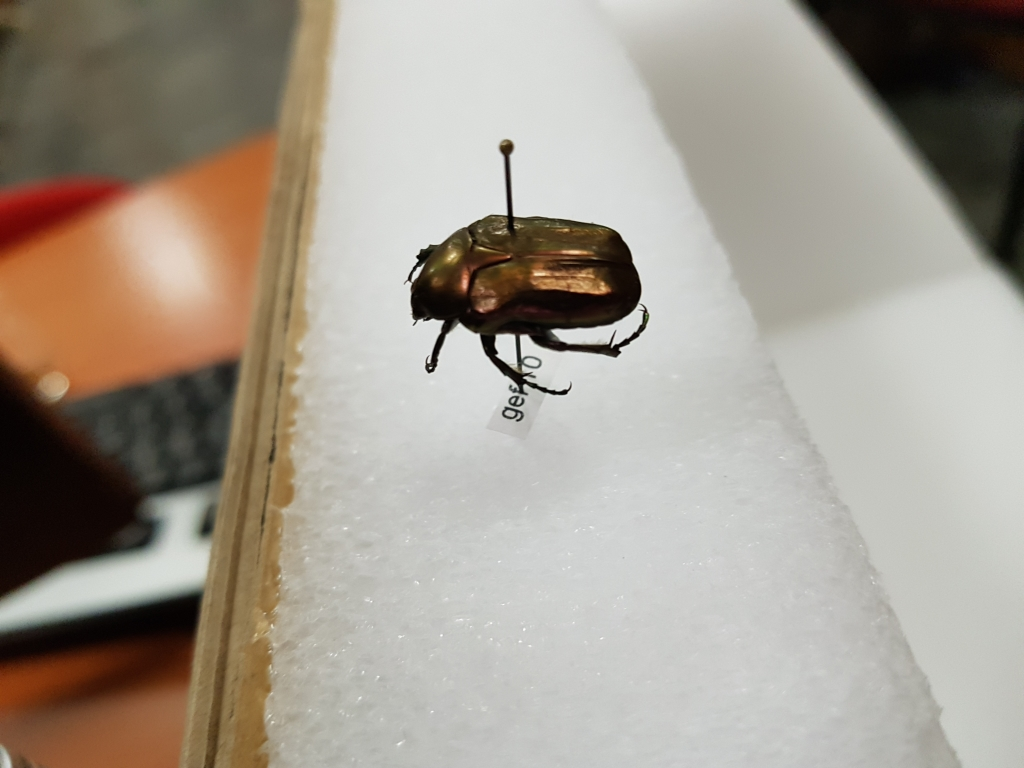Cetonia_aurata: (403, 205, 650, 397)
